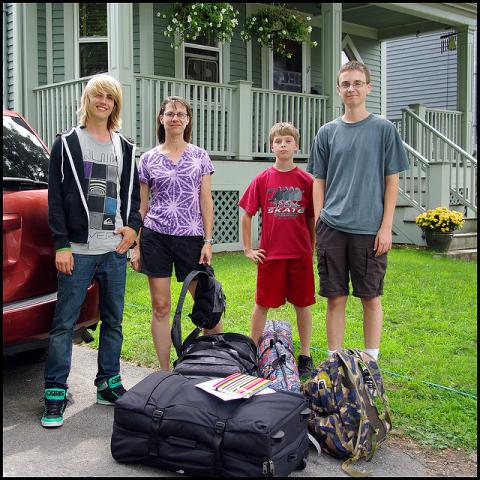car: (1, 111, 102, 366)
